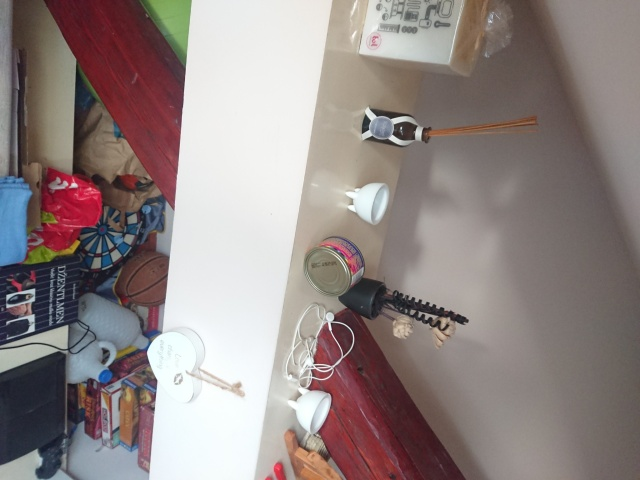Giana Tuna Salad Mexico 185g: (302, 234, 367, 299)
